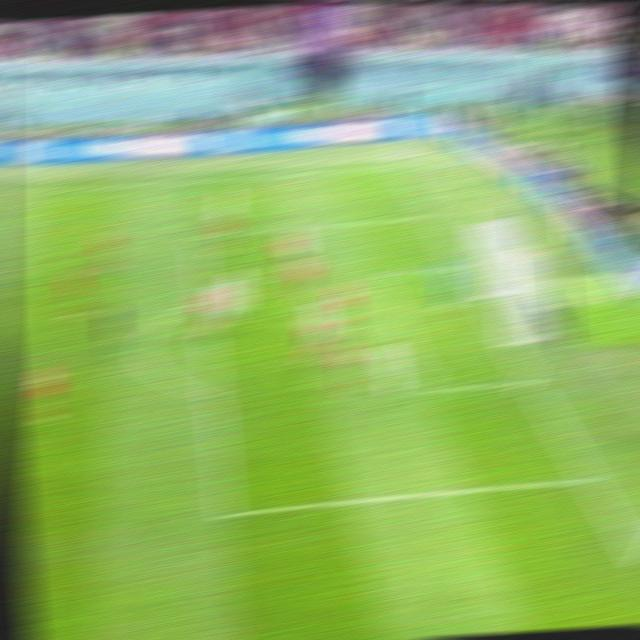bigarea_bottom_inner: (206, 498, 242, 527)
bigarea_bottom_outter: (570, 467, 606, 493)
bigarea_top_inner: (180, 225, 210, 245)
bigarea_top_outter: (415, 207, 443, 223)
bottom_arc_area_intersection: (197, 384, 226, 405)
corner: (384, 159, 413, 173)
smallarea_bottom_inner: (407, 373, 443, 403)
smallarea_bottom_outter: (511, 367, 545, 391)
smallarea_top_inner: (361, 264, 392, 283)
smallarea_top_outter: (447, 255, 476, 275)
